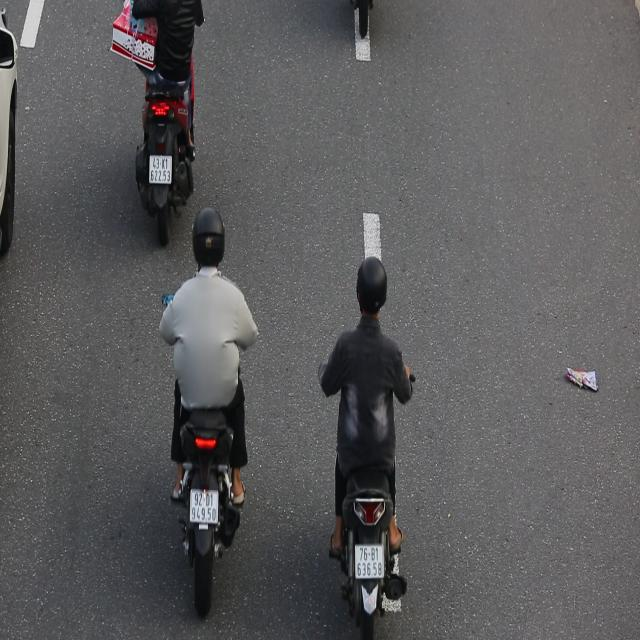motorbike: (147, 206, 259, 628), (318, 252, 419, 640)
